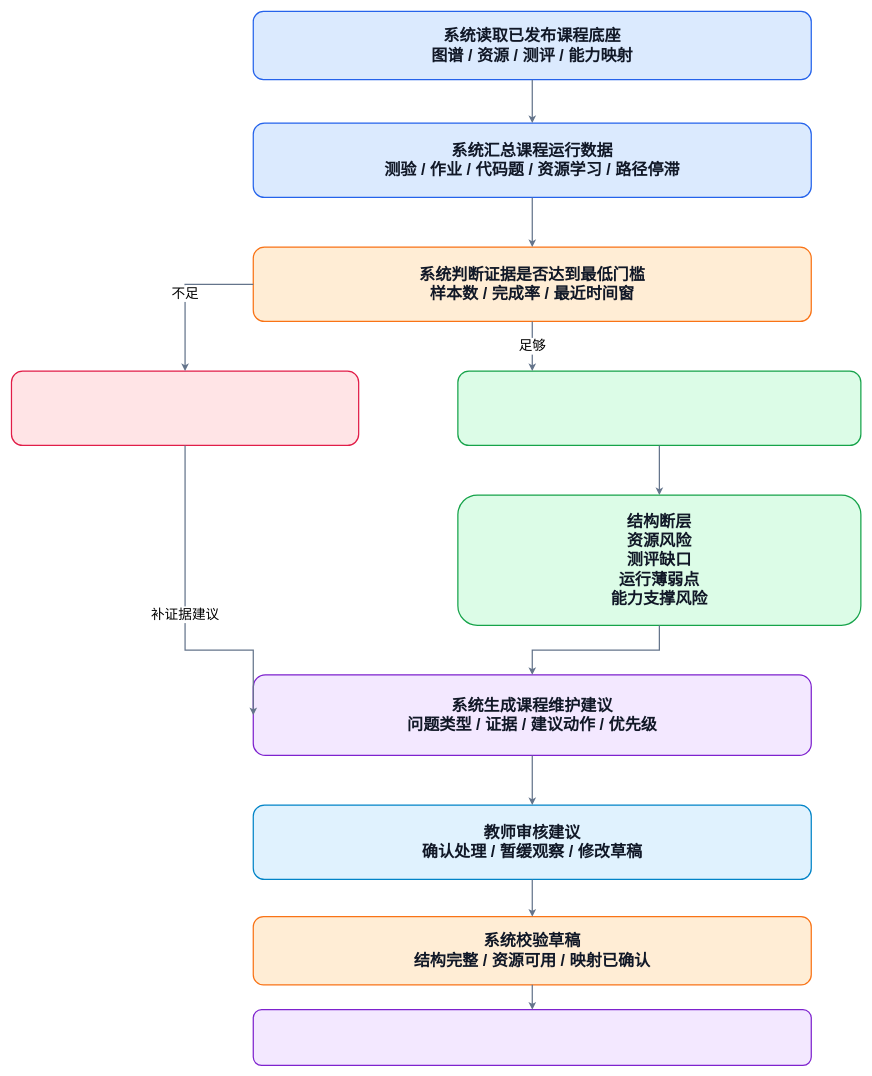
This 872x1076 diagram has some shape labels left out. The shapes that lost their labels are listed below. From the top down, each one's box as (x1, y1, x2, y2) in pixels, then its label:
(11, 370, 359, 446): 证据不足 输出补测验、补作业或补学习记录建议
(457, 370, 861, 446): 证据足够 系统执行五类课程判定规则
(252, 1009, 812, 1066): 发布新课程底座版本 下游模块只读取已发布版本
